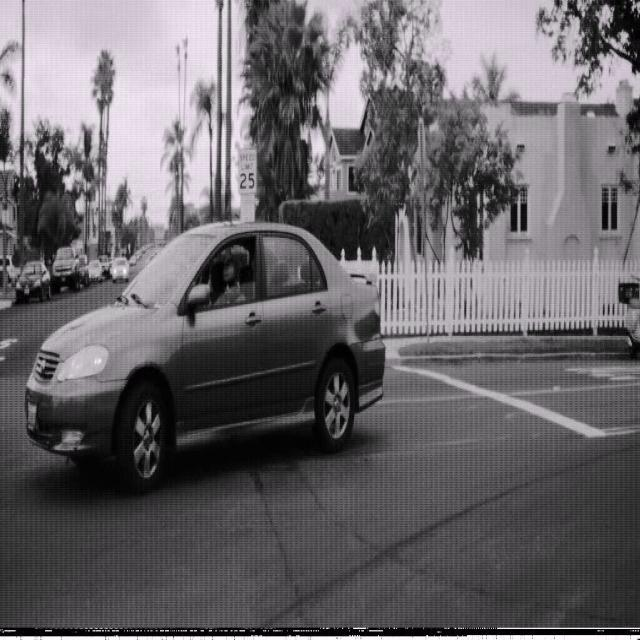speedLimit25: (236, 145, 258, 195)
